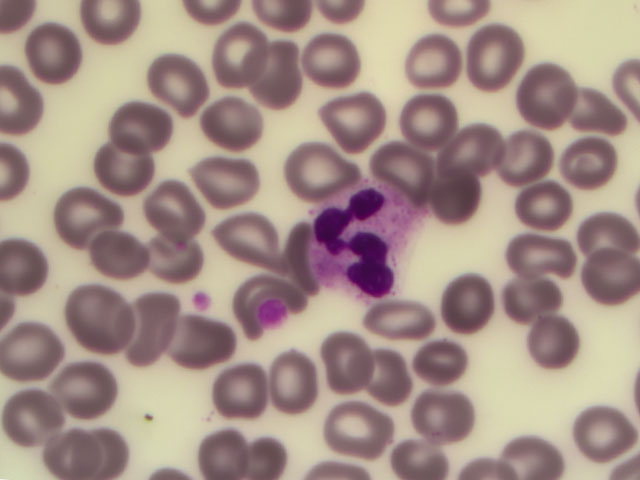Platelets: (262, 304, 287, 328), (192, 286, 212, 314)
RBC: (26, 24, 89, 84), (147, 49, 210, 109), (200, 23, 263, 83), (243, 42, 306, 102), (299, 26, 362, 86), (323, 82, 386, 142), (283, 141, 346, 201), (212, 96, 275, 156), (106, 94, 169, 154), (95, 133, 158, 193), (51, 185, 114, 245), (89, 221, 152, 281), (139, 231, 202, 291), (145, 173, 208, 233), (199, 153, 262, 213), (215, 206, 278, 266), (163, 311, 226, 371), (124, 287, 187, 347), (73, 284, 136, 344), (54, 354, 117, 414), (2, 386, 65, 446), (49, 420, 112, 480), (194, 420, 257, 480), (205, 360, 268, 420), (263, 352, 326, 412), (317, 327, 380, 387), (357, 349, 420, 409), (359, 287, 422, 347), (415, 326, 478, 386), (436, 278, 499, 338), (414, 375, 477, 435), (332, 396, 395, 456), (376, 420, 439, 480), (496, 420, 559, 480), (573, 400, 636, 460), (529, 310, 592, 370), (501, 269, 564, 329), (509, 225, 572, 285), (515, 173, 578, 233), (499, 131, 562, 191), (440, 118, 503, 178), (430, 163, 493, 223), (377, 135, 440, 195), (401, 83, 464, 143), (408, 32, 471, 92), (462, 22, 525, 82), (515, 63, 578, 123), (569, 81, 632, 141), (577, 197, 640, 257), (577, 248, 640, 308), (1, 326, 63, 386), (87, 1, 150, 60)
WBC: (314, 185, 426, 300)
